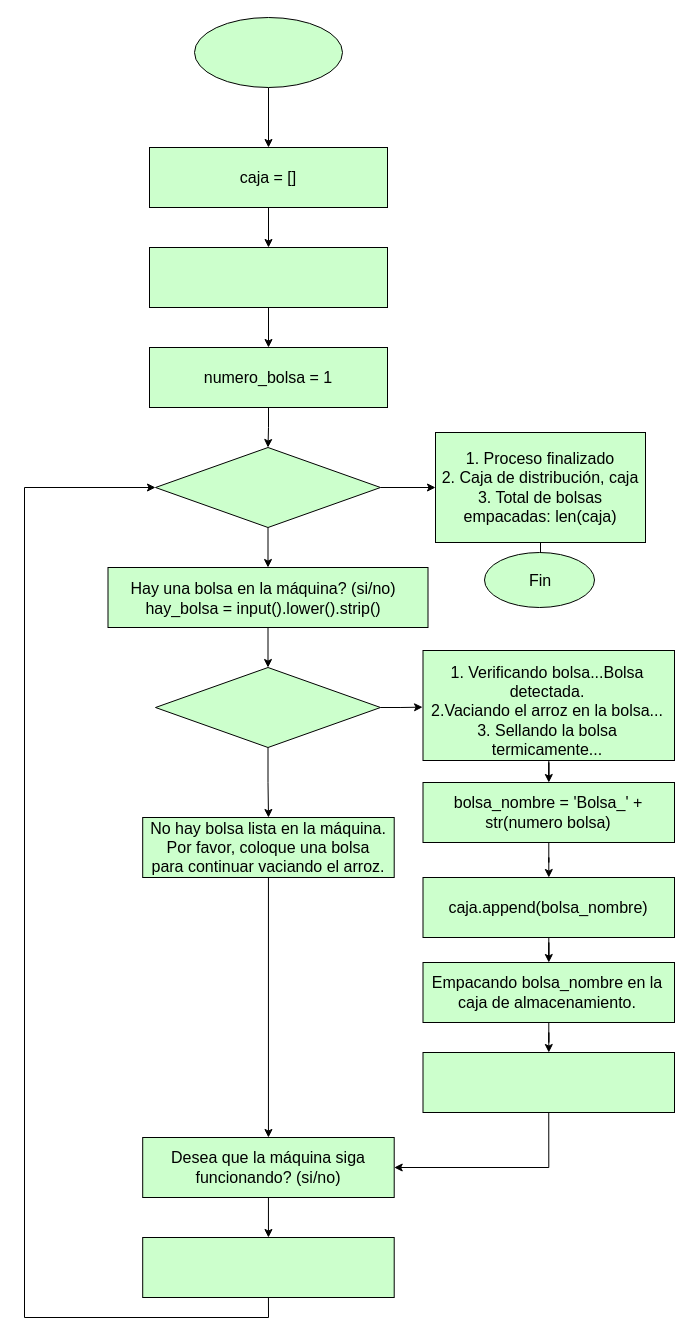
Some shapes in this 692 by 1343 pixel diagram are drawn without their labels. The box of each missing label's shape, as (x1, y1, x2, y2) in pixels:
continuar = 'si': (148, 246, 388, 308)
continuar = input().lower().strip(): (142, 1236, 394, 1298)
continuar == 'si': (154, 446, 380, 528)
hay_bolsa == 'si': (154, 666, 380, 748)
Inicio: (194, 16, 342, 88)
numero_bolsa = numero_bolsa + 1: (422, 1052, 674, 1112)
